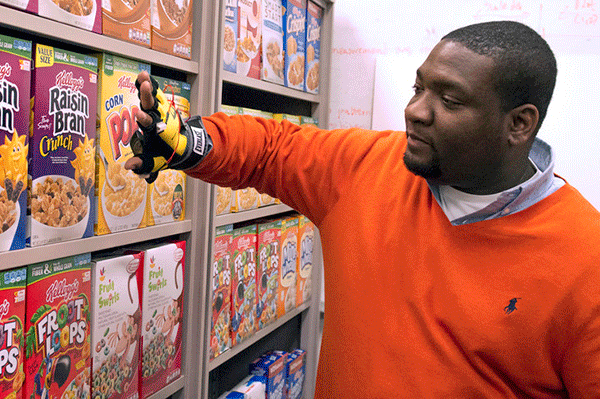Age_30_40: (402, 18, 559, 182)
E_Black: (402, 18, 559, 182)
Emotion_Neutral: (402, 18, 559, 182)
G_Male: (402, 18, 559, 182)
